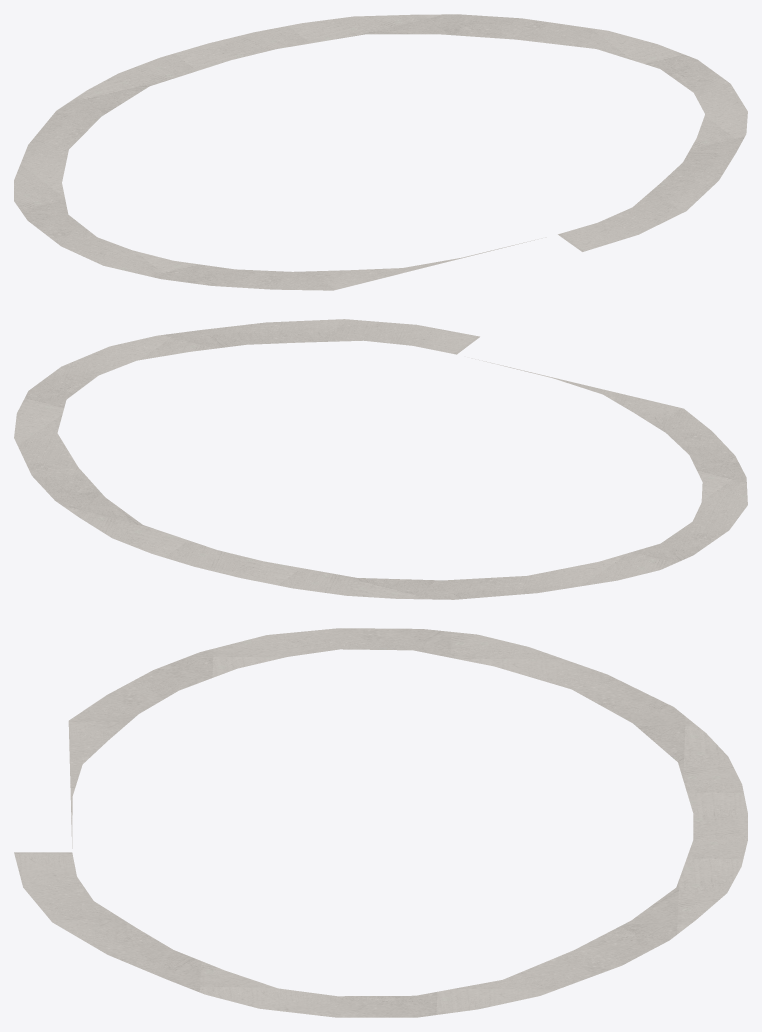
Rendered from CircleCurb.gltf.
3 views of the same model, one above another, from view 1: azimuth 30°, elevation 25°; view 2: azimuth 150°, elevation 25°; view 3: azimuth 270°, elevation 25° (orthographic). The views are drawn at different scales.
Visible parts, largest first — view 1: Plane; view 2: Plane; view 3: Plane.
Boxes of the visible parts, left/top/right/bottom form: Plane: left=14, top=14, right=747, bottom=290; Plane: left=14, top=319, right=747, bottom=599; Plane: left=14, top=628, right=747, bottom=1017.
Size of the model in its own units: 29.22 by 7.96e-07 by 23.27.
Materials: 1 (1 with a texture image).
